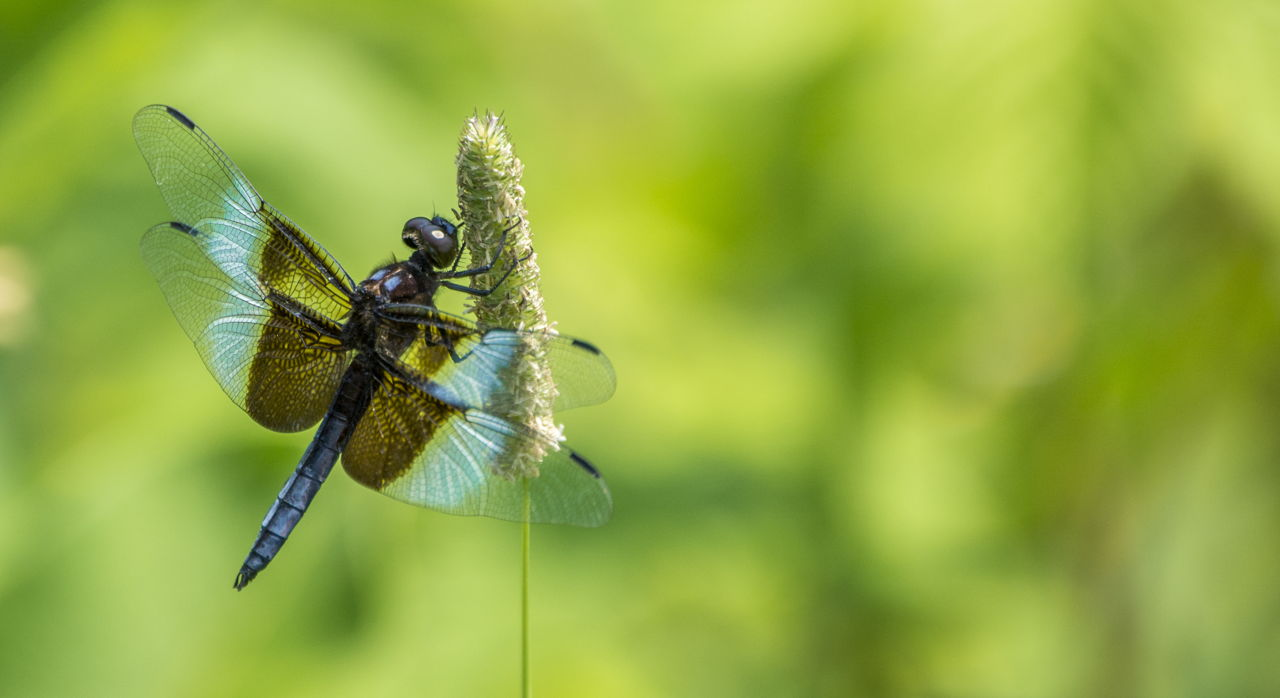insect: (125, 101, 616, 593)
